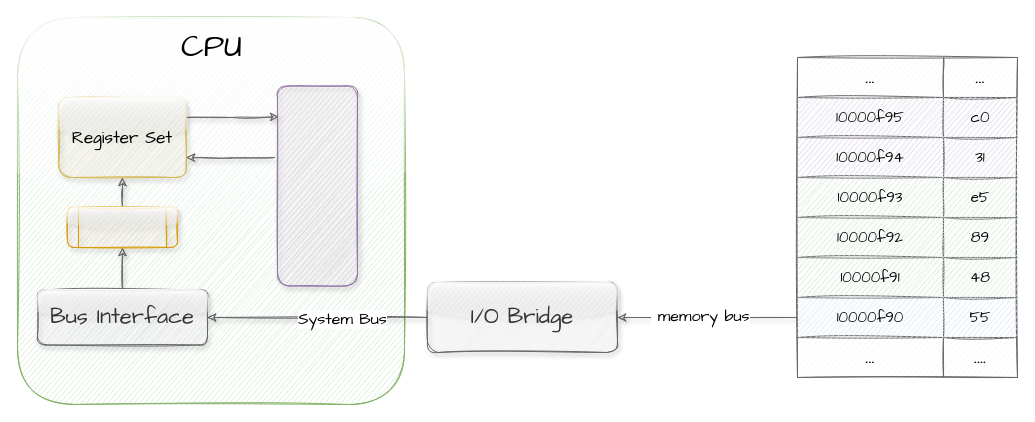
The diagram is 1035 pixels wide and 422 high, and some of its shapes have lost their labels. Here are the shapes that lost their labels. From the top down, the centre of each, then its label:
At [318,187]: "ALU".
At [123,228]: "PC".
